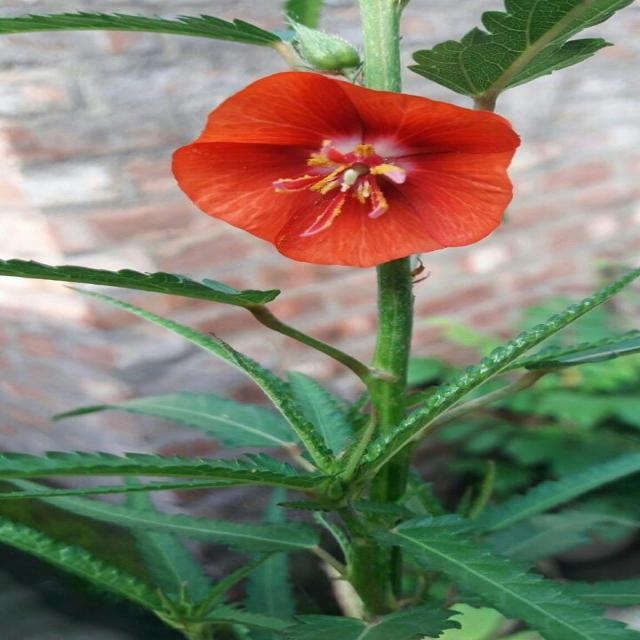organic waste: (176, 68, 523, 272)
